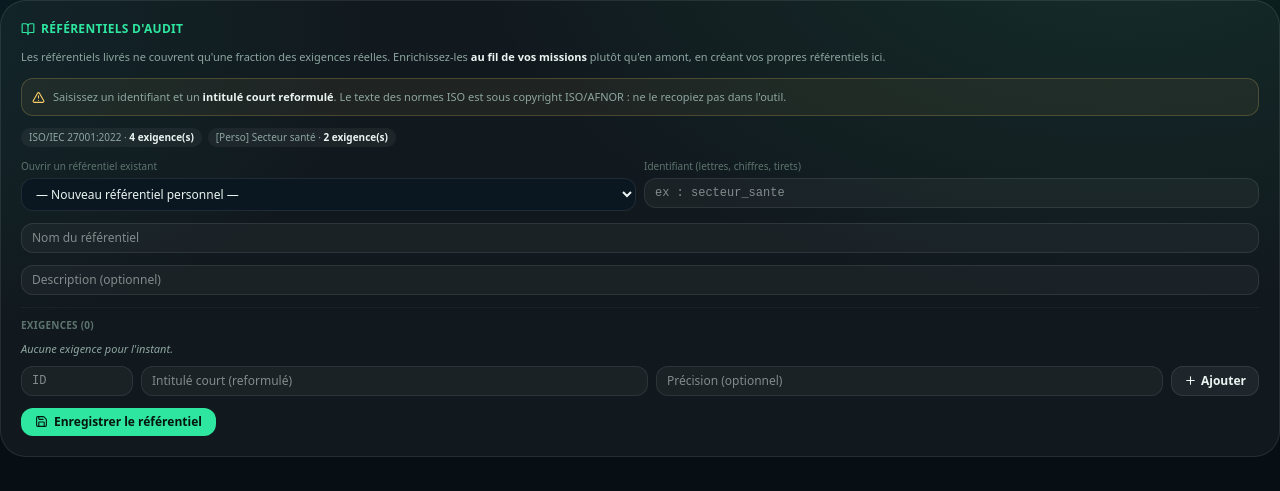
Test: ReferentielsPanel › retire une exigence
Select "[Perso] Secteur santé" in the dropdown named "Référentiel à ouvrir" at (328, 194), box [21,178,636,211]
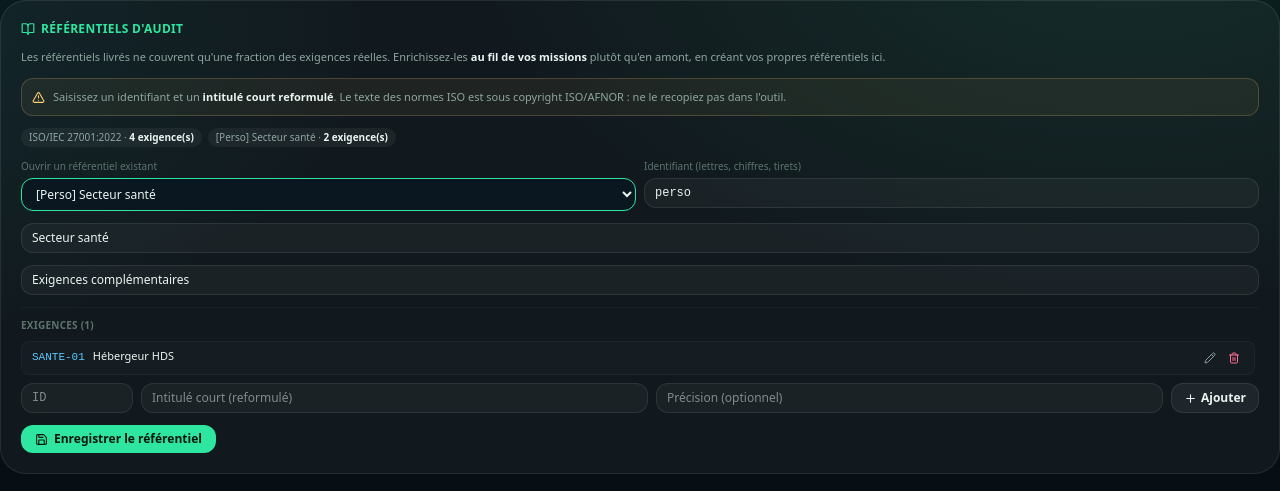
Expected: the text "SANTE-01" is shown, [32,351,85,363]
Click the button named "Retirer l'exigence SANTE-01".
click(1234, 358)  # box [1224,348,1244,368]
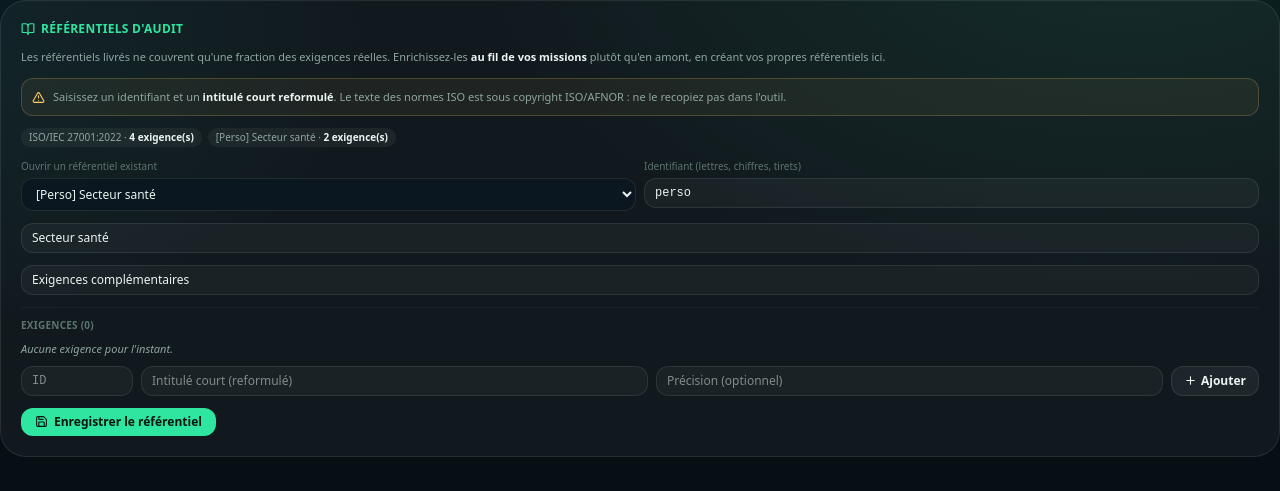
Expected: the text "SANTE-01" is gone
